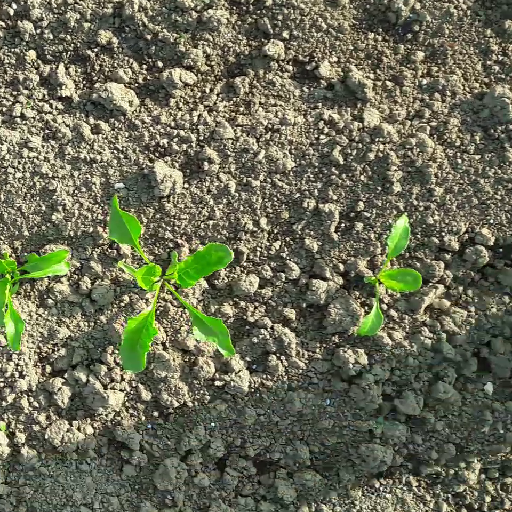sugarbeet: (106, 192, 238, 375), (343, 209, 428, 338), (1, 245, 70, 352)
weed: (373, 413, 406, 432)
